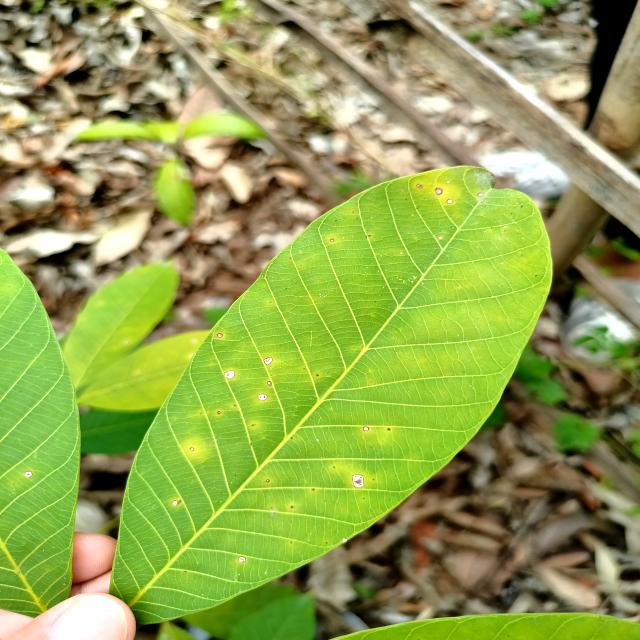Colletotrichum: (224, 370, 235, 378), (263, 357, 273, 365), (257, 394, 268, 401), (24, 471, 33, 477), (436, 188, 442, 196), (239, 556, 246, 562), (172, 500, 179, 505), (363, 426, 369, 431), (217, 333, 223, 338), (267, 381, 272, 386), (447, 199, 452, 204), (477, 192, 483, 196), (417, 184, 422, 188), (190, 447, 194, 451), (266, 479, 270, 482), (330, 239, 334, 242), (218, 411, 220, 414)
